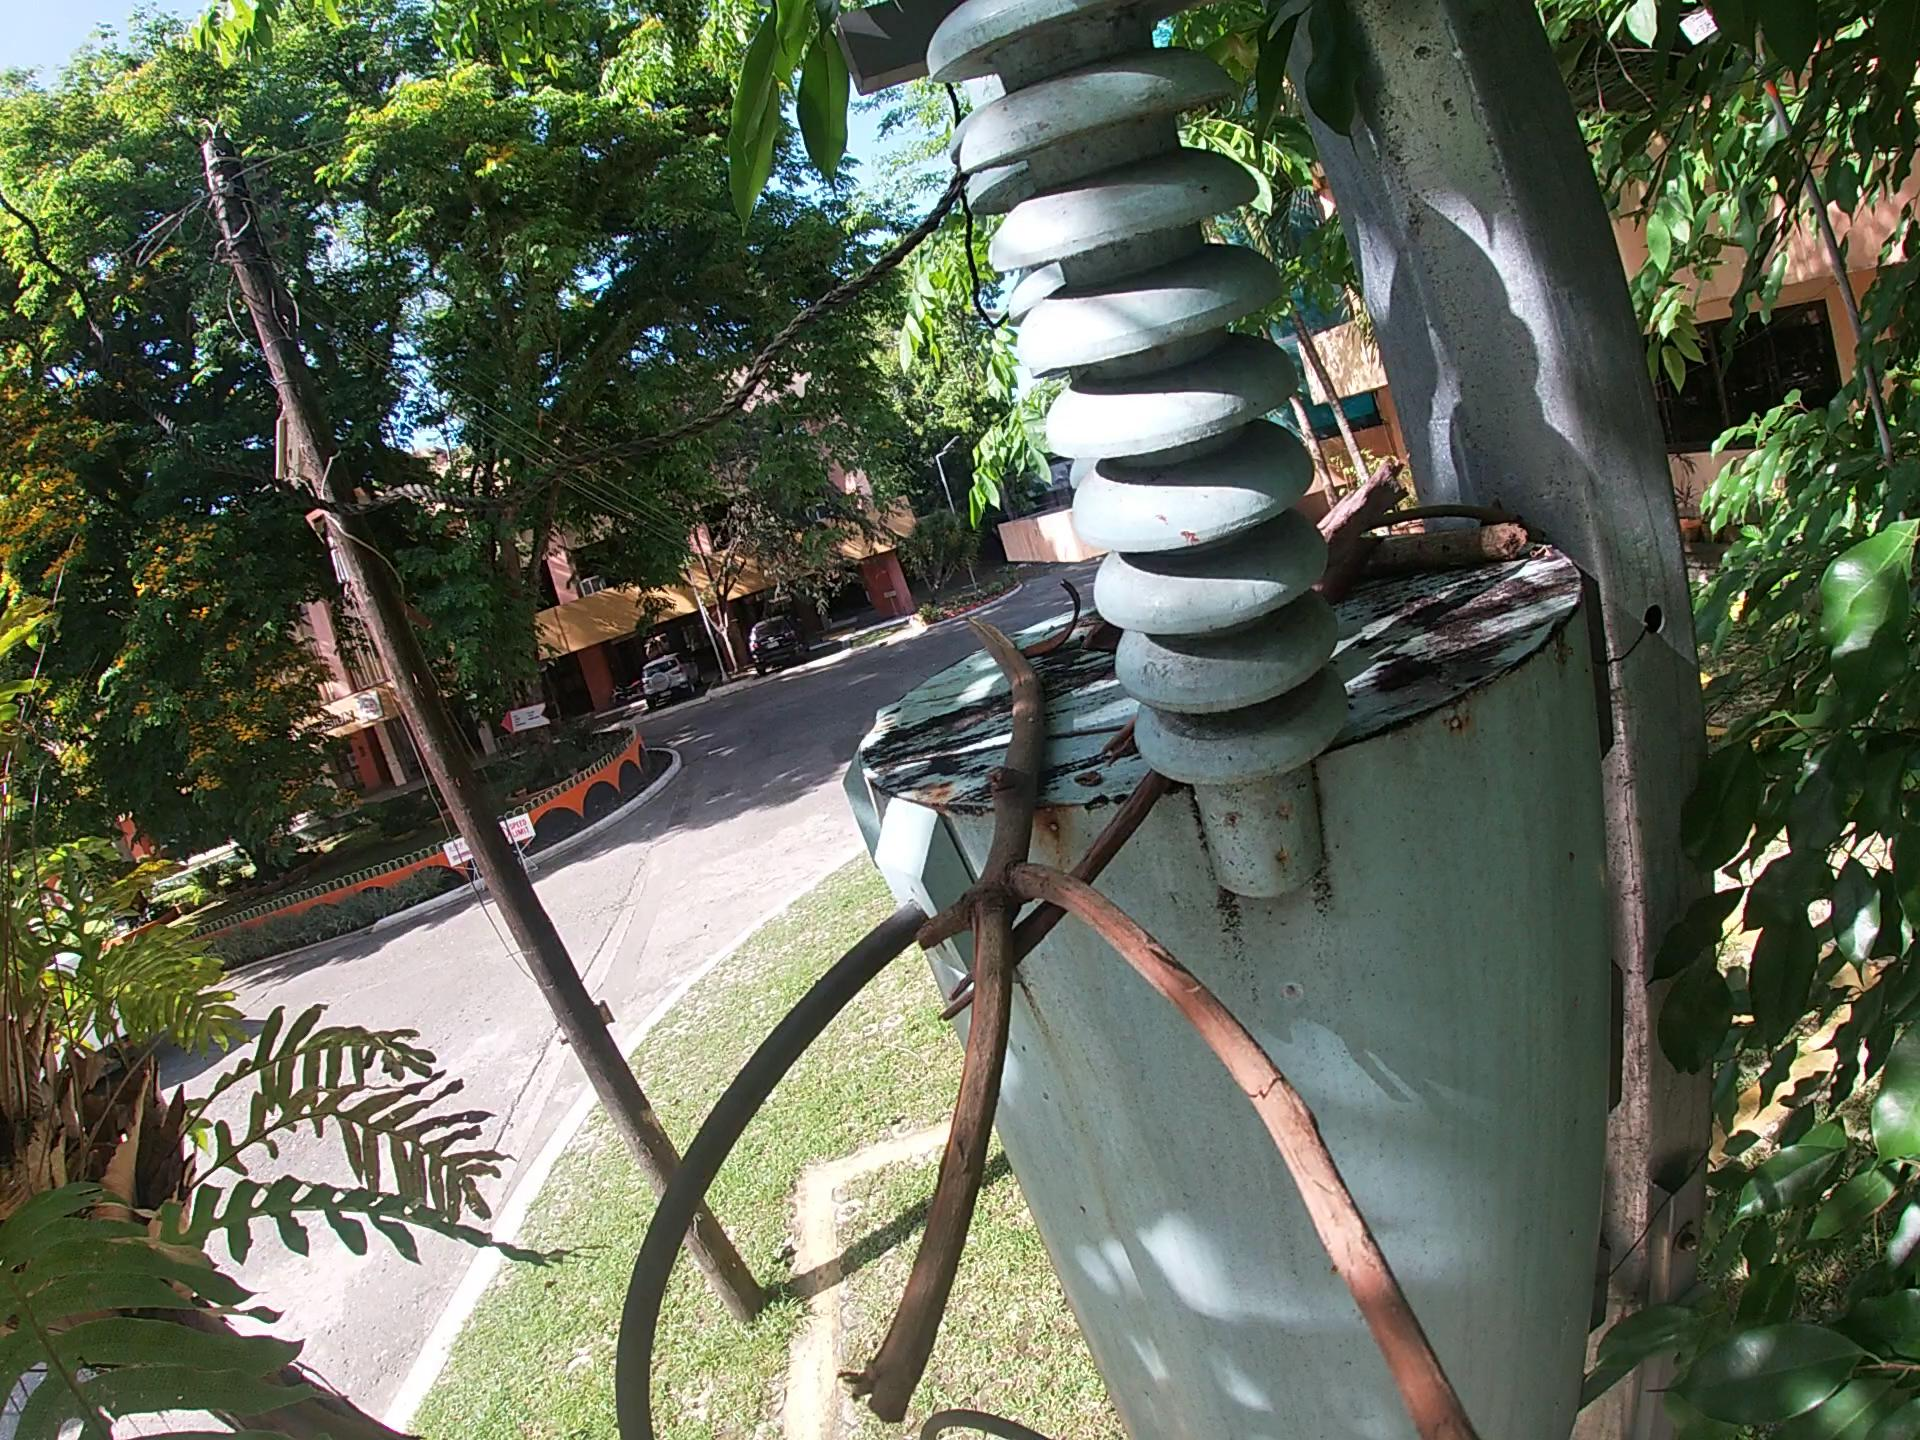mahogany fruit: (1016, 572, 1085, 666), (1076, 619, 1126, 659)
tree branch: (831, 601, 1504, 1438), (934, 759, 1178, 1039), (1335, 519, 1538, 588), (1303, 452, 1426, 560)
